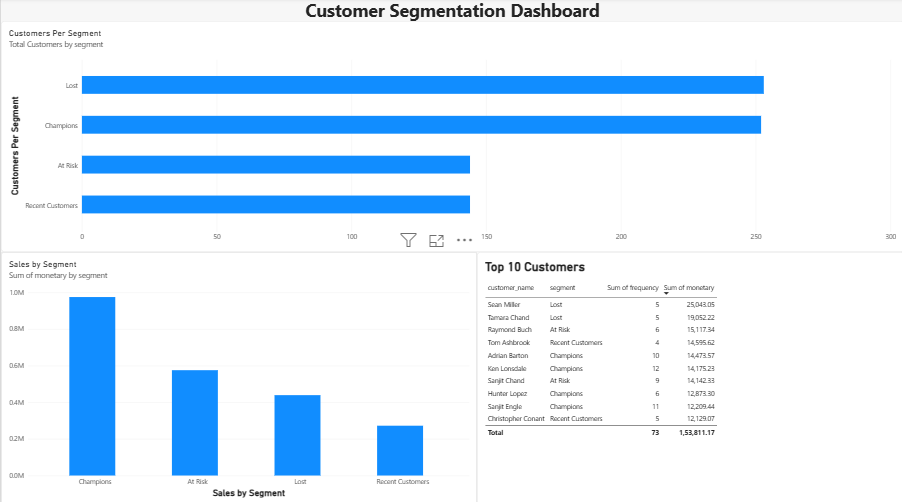

The dashboard page shown, as its layout file describes it:
{"tool":"powerbi","page":{"name":"Page 2","canvas":[1920,1080],"ordinal":1},"visuals":[{"type":"barChart","title":"Customers Per Segment ","fields":{"Category":["customer_segments.segment"],"Y":["category_sales.Total Customers"]},"box":[0,47.9,1920,491.3],"z":0},{"type":"columnChart","title":"Sales by Segment","fields":{"Category":["customer_segments.segment"],"Y":["Sum(customer_segments.monetary)"]},"box":[0,539.2,1012.9,539.2],"z":1},{"type":"tableEx","title":"Top 10 Customers","fields":{"Values":["customer_segments.customer_name","customer_segments.segment","Sum(customer_segments.frequency)","Sum(customer_segments.monetary)"]},"box":[1012.9,539.2,907.1,536.7],"z":2},{"type":"textbox","box":[0,0,1919.8,68],"z":3}]}

Visuals, with their boxes in screenshot pixels (x1, y1, x2, y2), scaled from the page's 1920x1080 canvas onto the 902x502 screenshot:
"Customers Per Segment " barChart: bbox=[0, 22, 901, 251]
"Sales by Segment" columnChart: bbox=[0, 251, 476, 501]
"Top 10 Customers" tableEx: bbox=[476, 251, 901, 500]
textbox: bbox=[0, 0, 901, 32]
